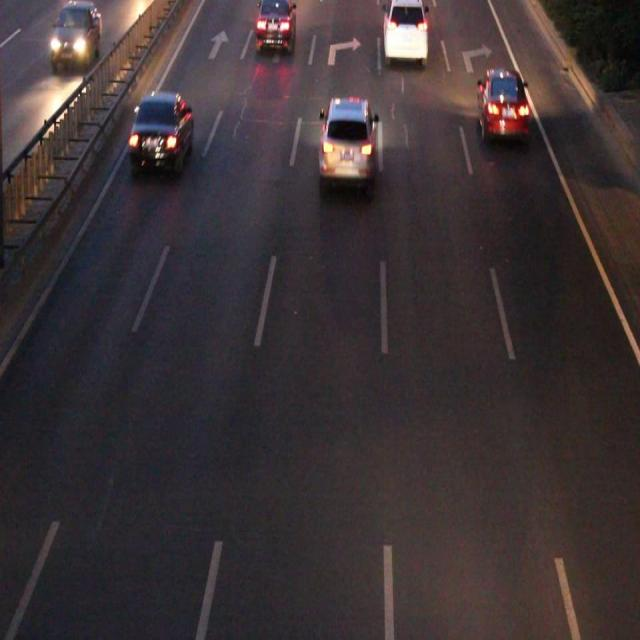car: (132, 96, 191, 165), (320, 98, 372, 176), (478, 69, 527, 135), (383, 1, 426, 58), (255, 1, 294, 52)
